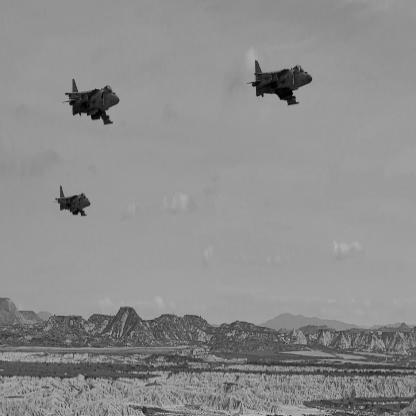AV8B: (247, 61, 314, 107), (63, 79, 121, 126), (54, 185, 92, 218)
